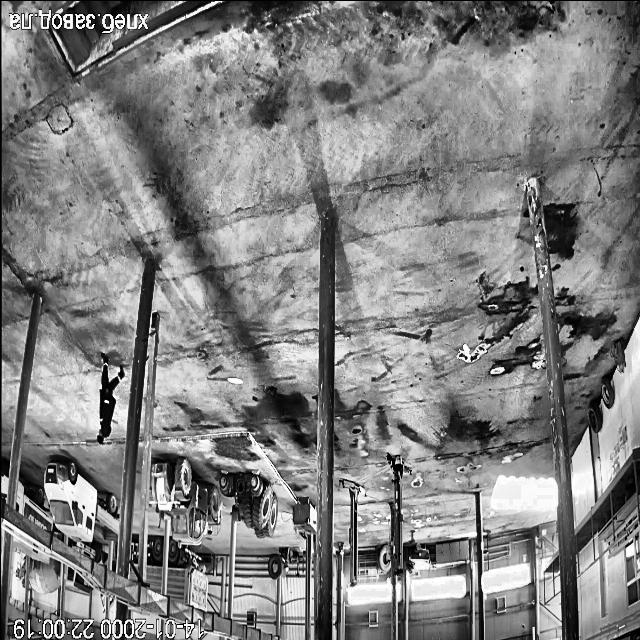class4: (96, 354, 124, 443)
class6: (151, 458, 220, 544), (220, 474, 278, 538)
class7: (44, 460, 119, 540), (167, 540, 208, 612), (16, 480, 52, 532), (29, 557, 60, 594), (146, 538, 163, 594), (68, 540, 104, 563), (12, 537, 48, 560), (66, 567, 91, 595), (0, 460, 8, 500), (129, 541, 137, 580), (18, 564, 24, 580)
tractor: (613, 340, 624, 372)
truck: (387, 454, 410, 573), (342, 479, 365, 586)
